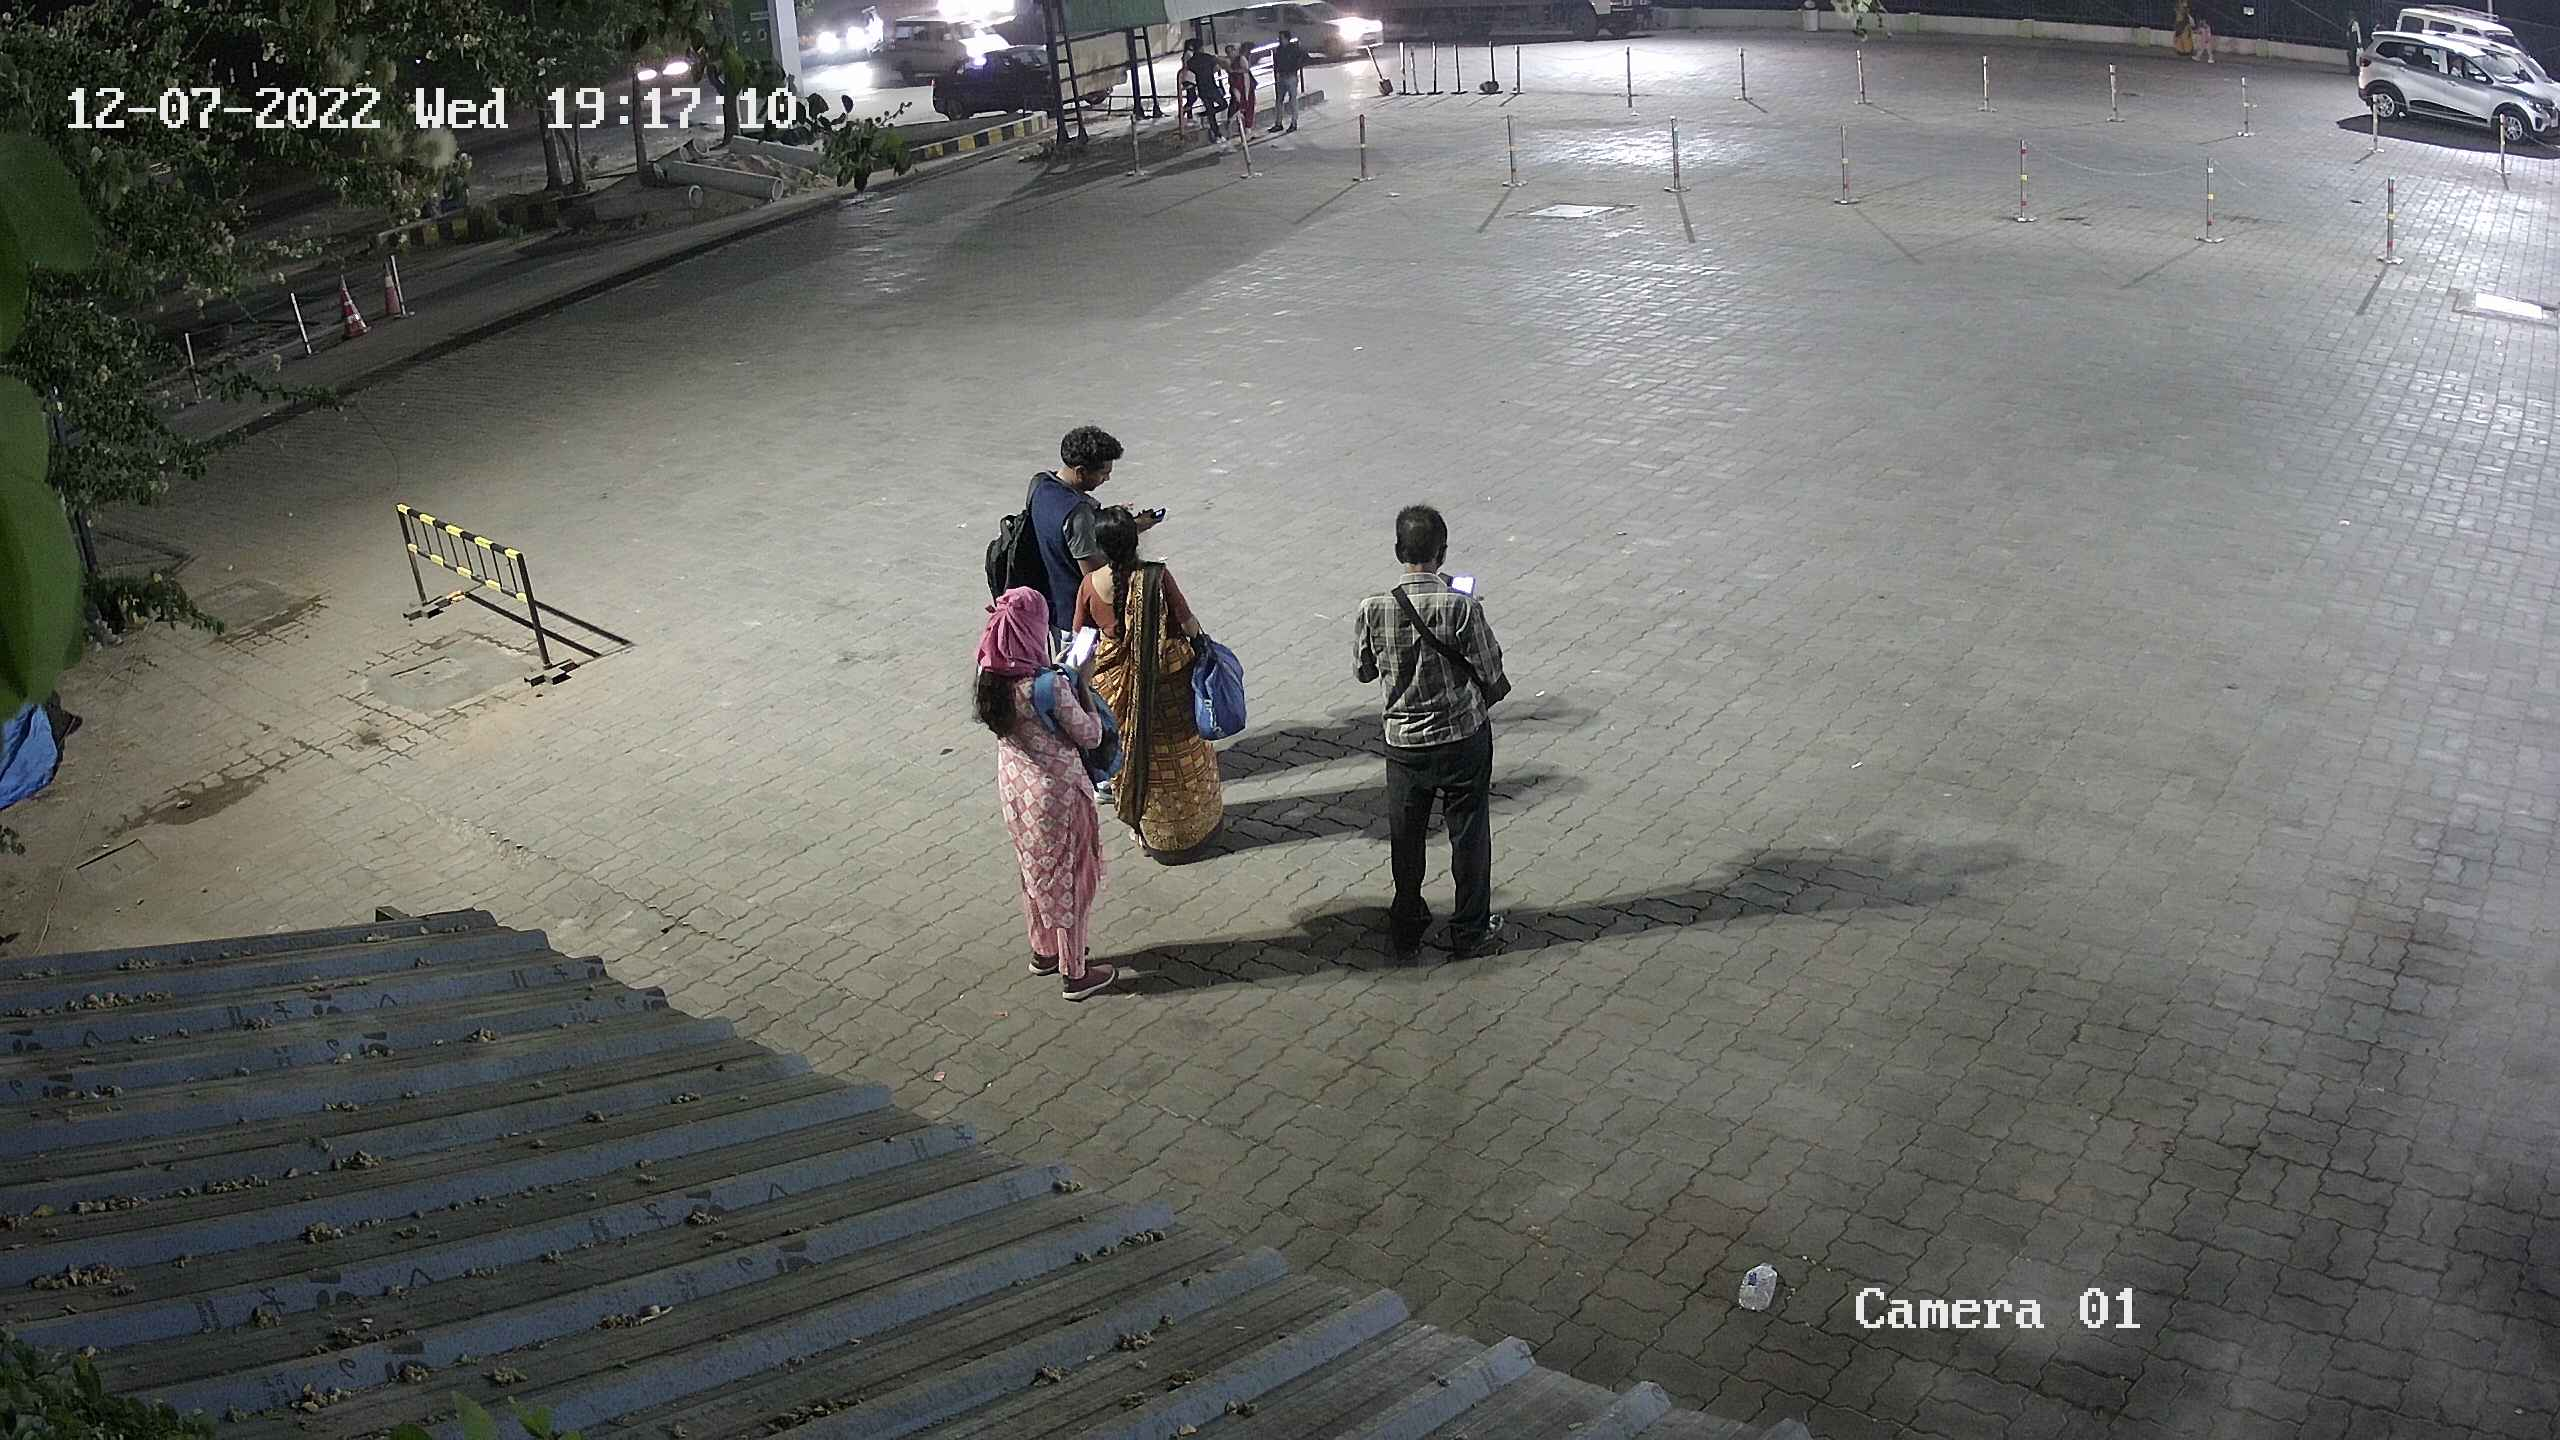Car: (2337, 12, 2558, 164), (914, 30, 1074, 120), (1208, 0, 1396, 76), (867, 4, 1016, 91), (2389, 0, 2534, 62), (802, 2, 905, 74)
HMV: (1306, 0, 1669, 53)
